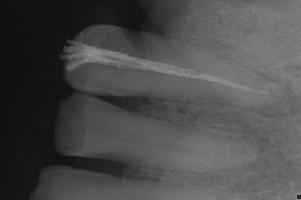Furcation Involvement: (249, 66, 301, 119)
